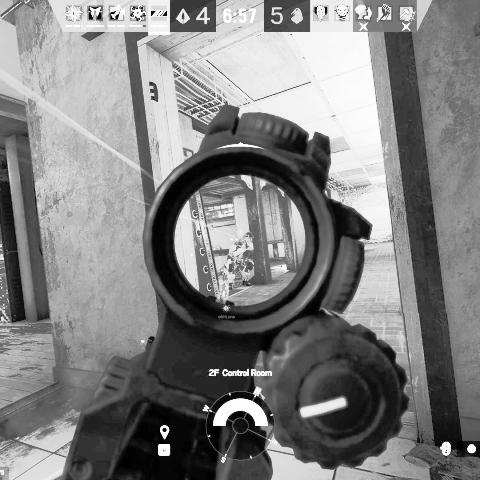Character: (221, 230, 256, 291)
Friend_label: (216, 302, 236, 319), (214, 268, 235, 284)
Head: (244, 232, 253, 243)
